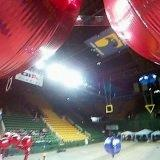Purple_Balloon: (104, 136, 121, 154)
Yellow_Square_GShape: (105, 104, 114, 114)
Yellow_Triangle_Gshape: (145, 104, 155, 114)
